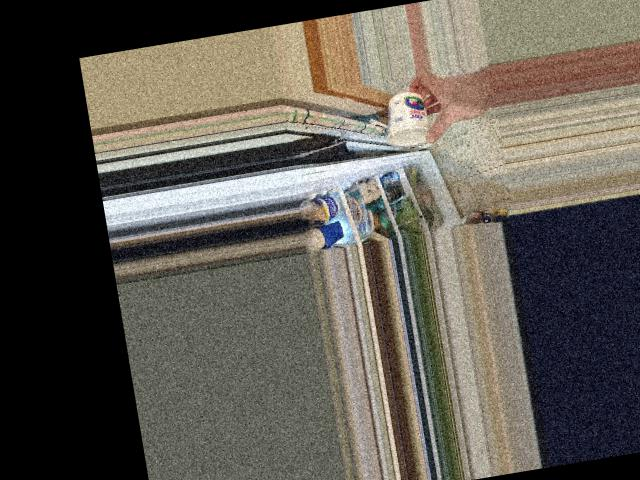cotage: (376, 87, 441, 154)
